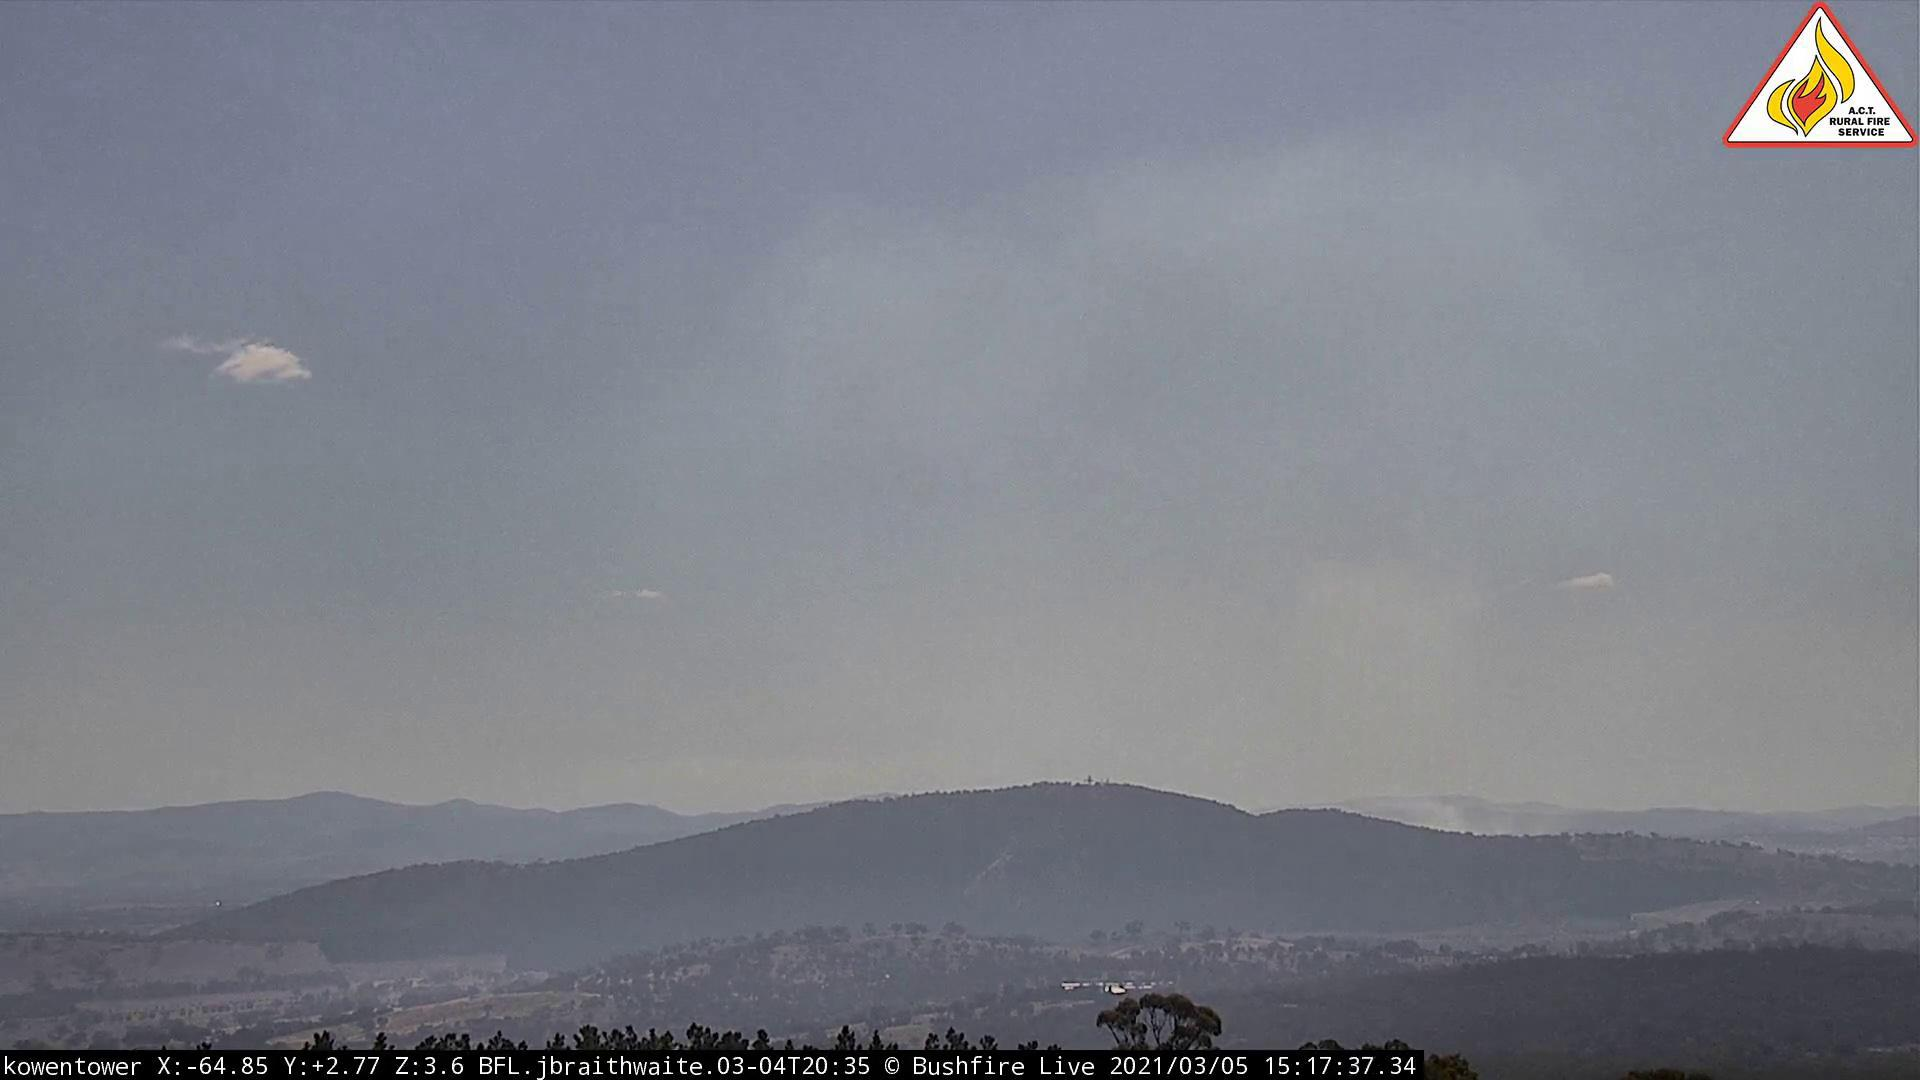Smoke: (984, 285, 1581, 844)
